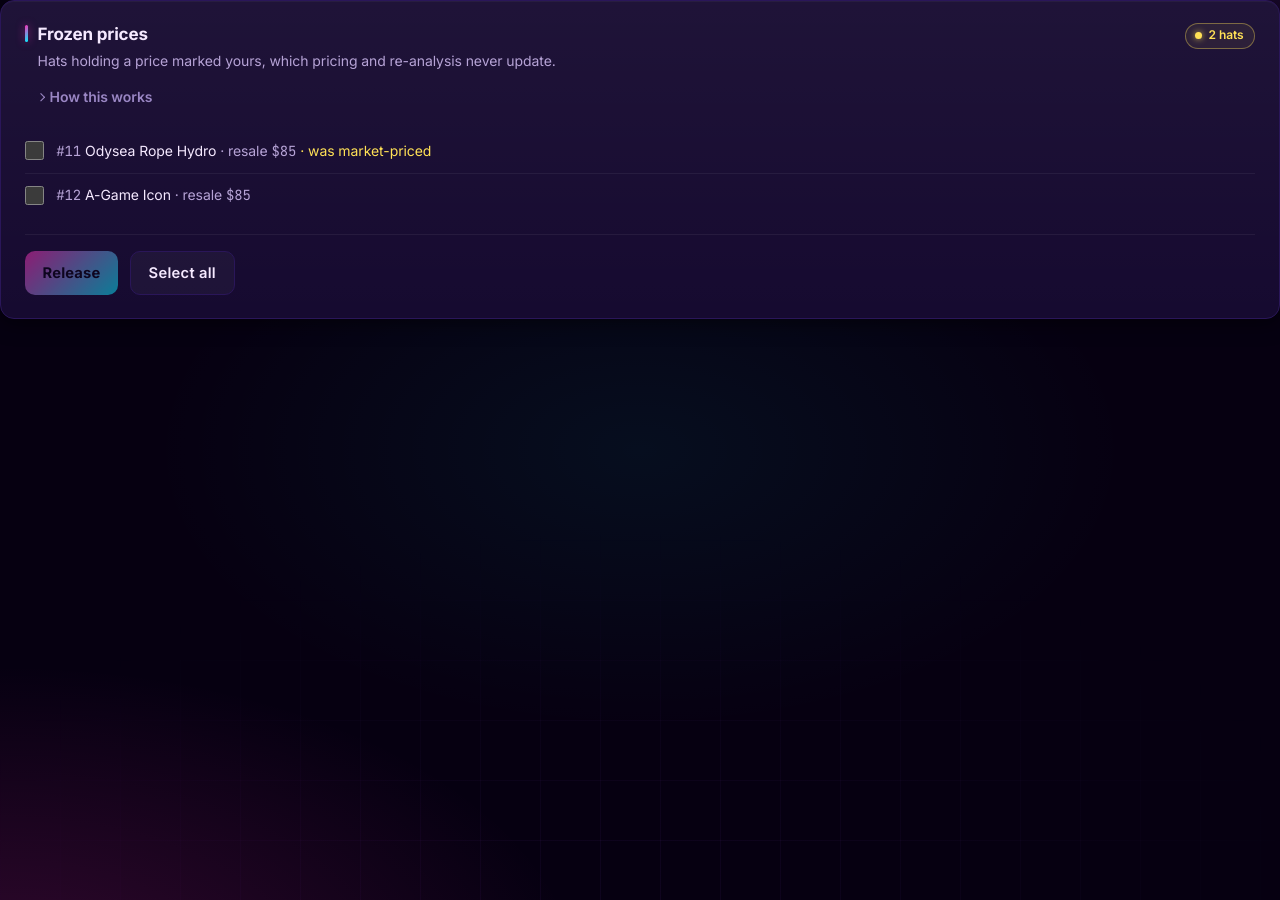
it: FrozenPricesCard › drops released rows at once, before the server answers
This screenshot has width=1280, height=900.
Click the checkbox named "Release hat 11" at {"x": 35, "y": 151}, box [25, 141, 44, 160]
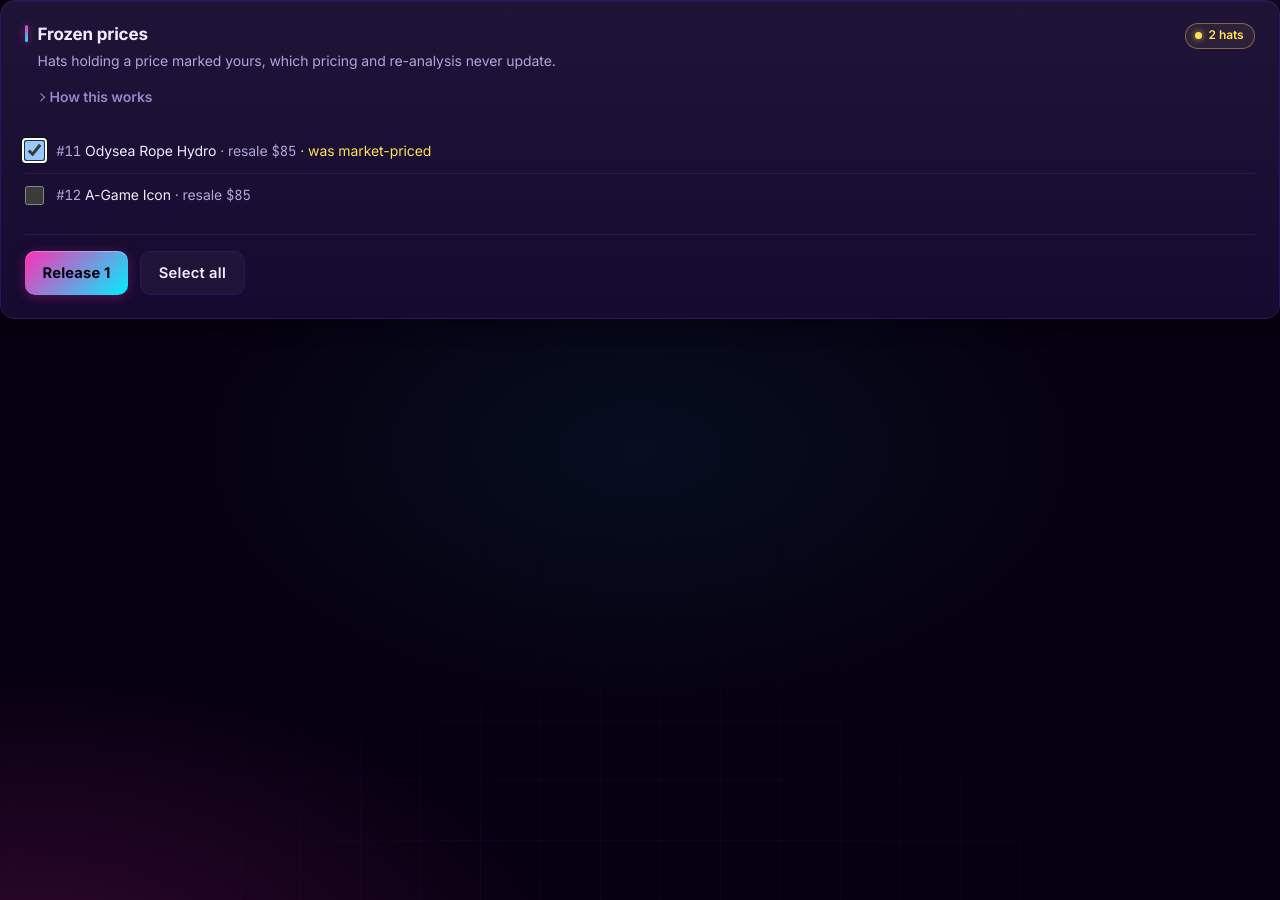
Click the button "Release 1" at {"x": 77, "y": 274}, box [25, 252, 128, 296]
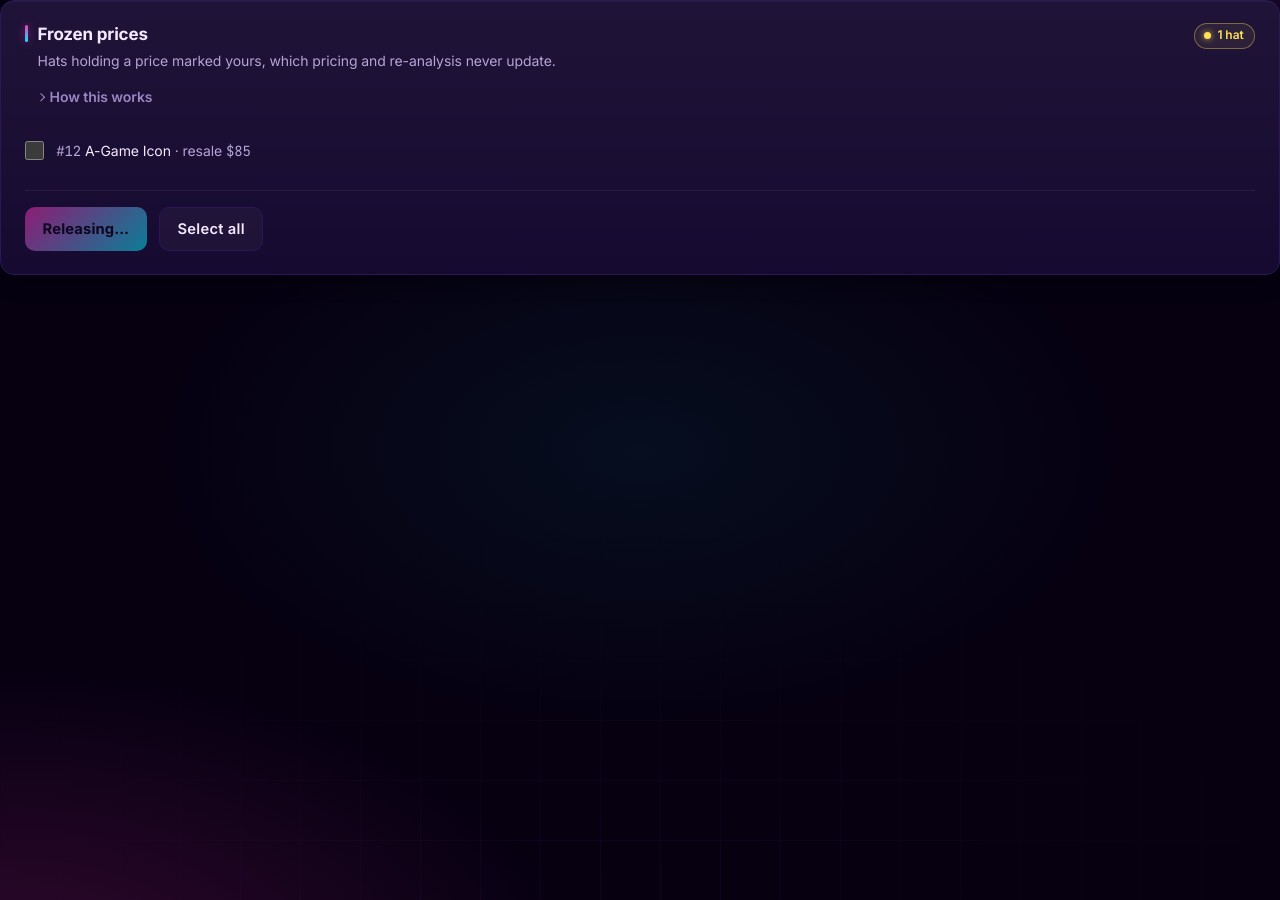
Check: the checkbox named "Release hat 12" is shown, box [25, 141, 44, 160]
Check: the text "1 hat" is shown, box [1194, 23, 1255, 49]
